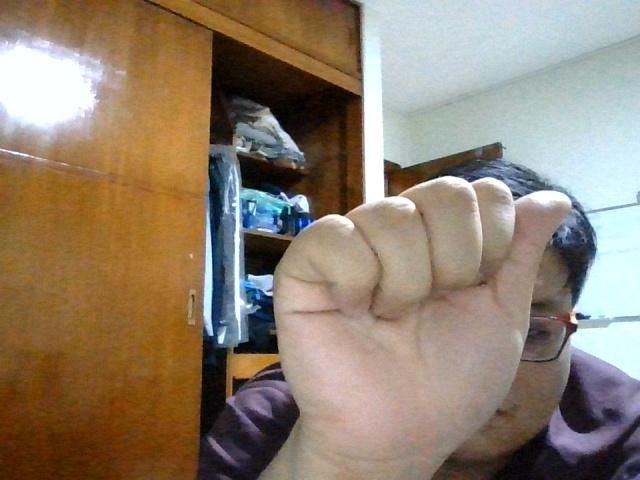a: (273, 170, 574, 442)
